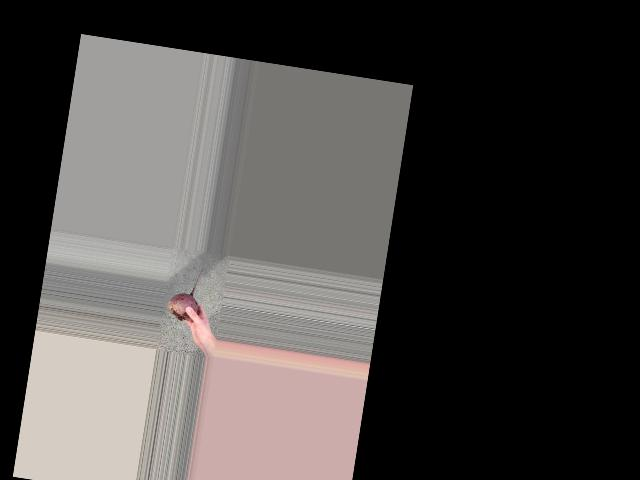beet: (166, 264, 204, 322)
